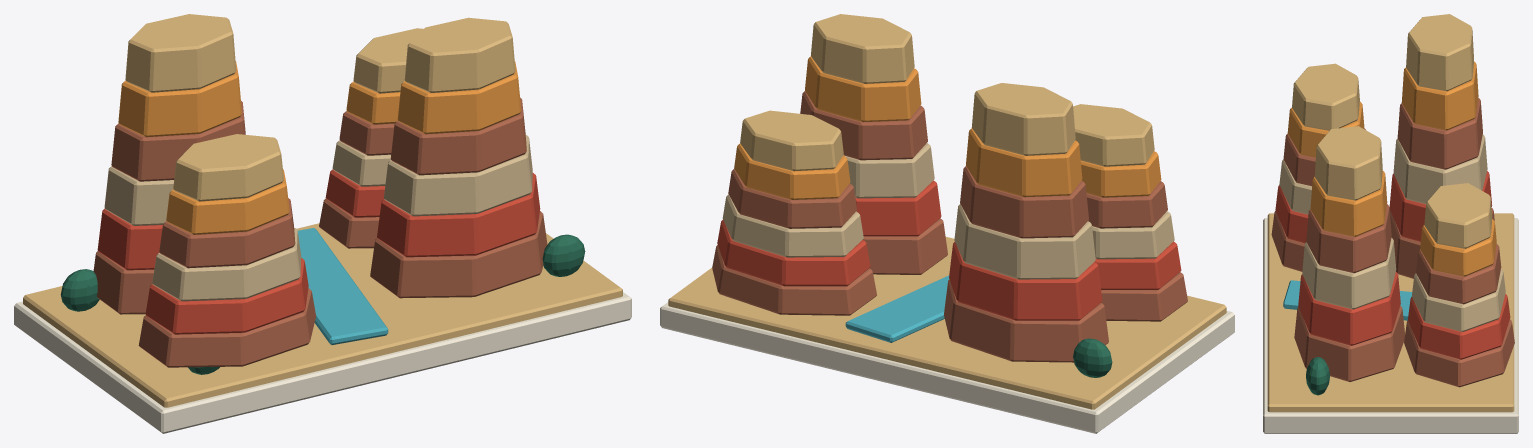
The model's file is grand-canyon.glb.
The picture shows the model from 3 angles, left to right: view 1: azimuth 30°, elevation 25°; view 2: azimuth 150°, elevation 25°; view 3: azimuth 270°, elevation 25°; orthographic projection. The views are drawn at different scales.
Parts seen in each view (by area): view 1: Grand Canyon; view 2: Grand Canyon; view 3: Grand Canyon.
Boxes of the visible parts, left/top/right/bottom form: Grand Canyon: left=14, top=14, right=631, bottom=433; Grand Canyon: left=660, top=14, right=1234, bottom=433; Grand Canyon: left=1263, top=14, right=1518, bottom=433.
Size of the model in its own units: 1.47 by 0.89 by 0.8064.
